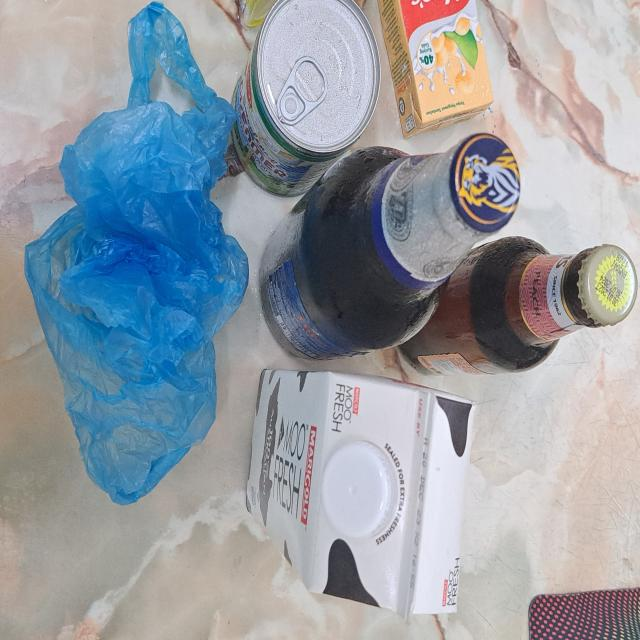can: (231, 0, 381, 198)
drink carton: (245, 367, 476, 622), (375, 0, 493, 142)
glass bottle: (260, 134, 521, 363), (400, 234, 638, 376)
plastic bag: (22, 0, 252, 507)
plastic bottle cap: (318, 440, 398, 541)
pop tab: (277, 55, 329, 127)
